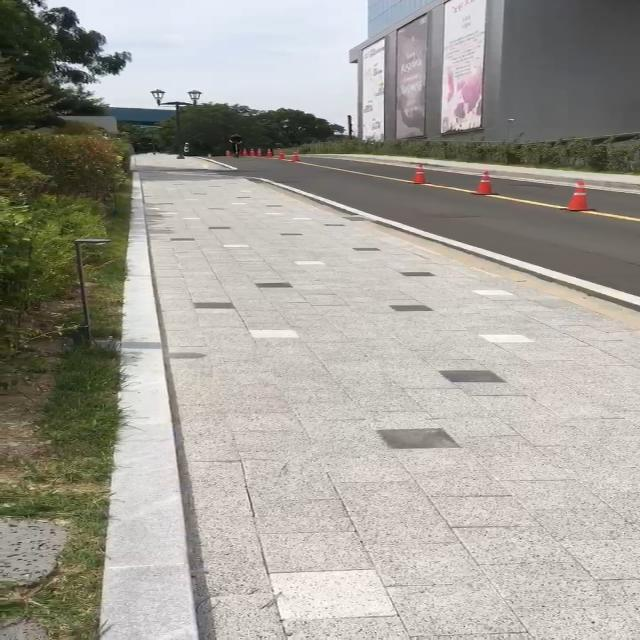obstacle: (551, 178, 603, 215), (464, 167, 501, 195), (400, 157, 433, 183)
road: (209, 152, 640, 330)
sidewalk: (117, 169, 640, 640), (311, 153, 640, 189), (141, 152, 237, 172)
